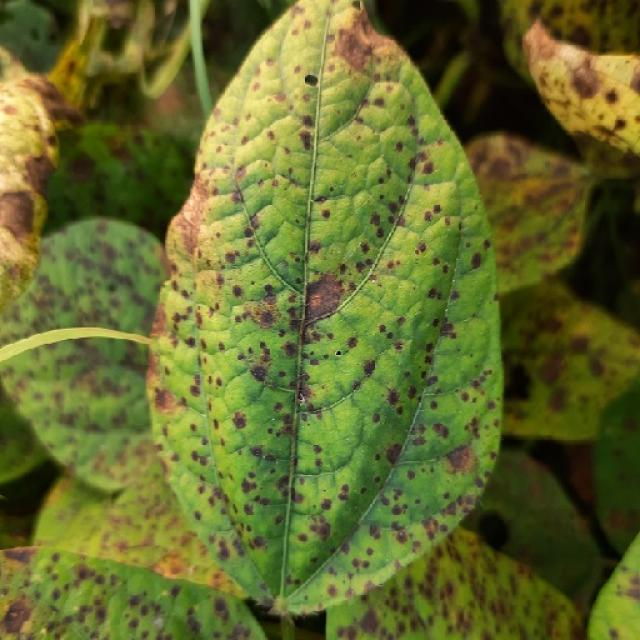Anthracnose: (170, 168, 212, 273), (301, 272, 352, 342), (331, 9, 380, 73), (0, 189, 39, 243), (238, 295, 287, 330), (501, 361, 532, 404), (536, 348, 569, 387), (2, 595, 36, 632), (570, 67, 600, 100), (442, 443, 474, 471), (0, 546, 36, 568), (69, 154, 96, 178), (357, 608, 381, 634), (152, 387, 175, 411), (384, 443, 404, 466), (250, 364, 270, 383), (298, 129, 313, 151), (231, 411, 247, 430), (386, 389, 400, 407), (282, 342, 297, 358), (470, 252, 483, 270), (250, 445, 265, 458), (369, 212, 381, 228), (614, 117, 627, 130), (263, 283, 276, 296), (304, 74, 318, 86), (231, 285, 243, 299), (416, 241, 427, 254), (423, 161, 434, 174), (314, 195, 328, 204)
Blackgram: (144, 0, 505, 619)
